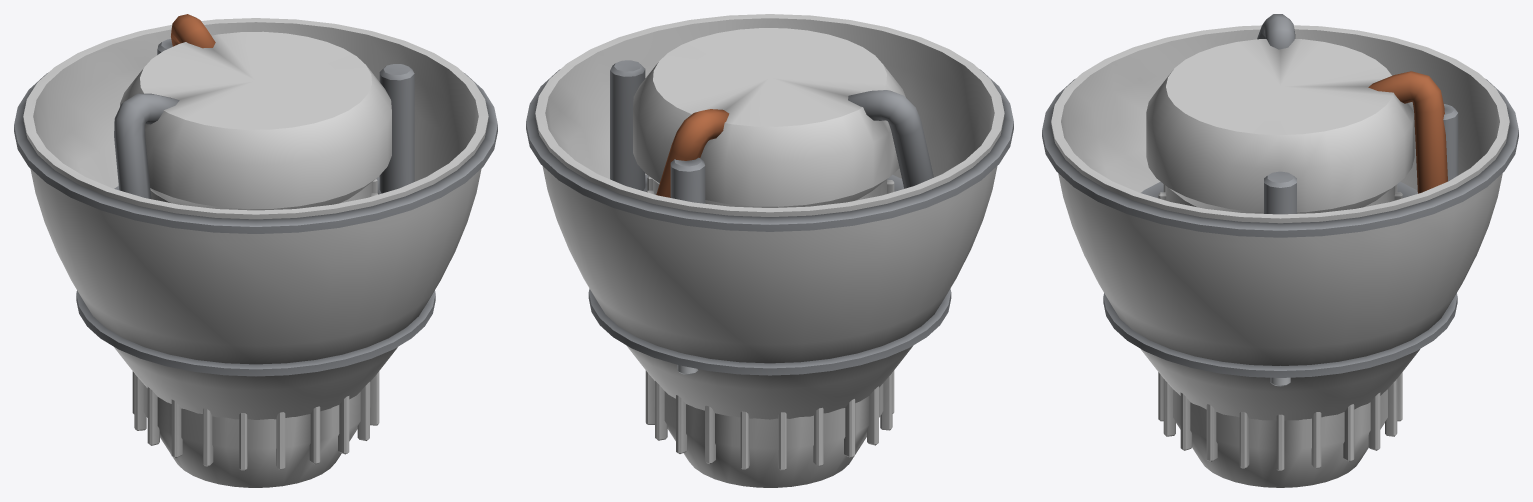
Rendered from motor_elevacion.glb.
3 views of the same model, side by side, from view 1: azimuth 30°, elevation 25°; view 2: azimuth 150°, elevation 25°; view 3: azimuth 270°, elevation 25° (orthographic). The views are drawn at different scales.
Visible parts, largest first — view 1: tobera, camara; view 2: tobera, camara; view 3: tobera, camara.
Part boxes in pixels (bbox=[...]): tobera: bbox=[14, 18, 497, 419]; camara: bbox=[114, 14, 414, 487]; tobera: bbox=[526, 14, 1013, 419]; camara: bbox=[610, 28, 933, 487]; tobera: bbox=[1042, 25, 1518, 420]; camara: bbox=[1141, 14, 1458, 487].
Size of the model in its own units: 0.495 by 0.4362 by 0.495.
